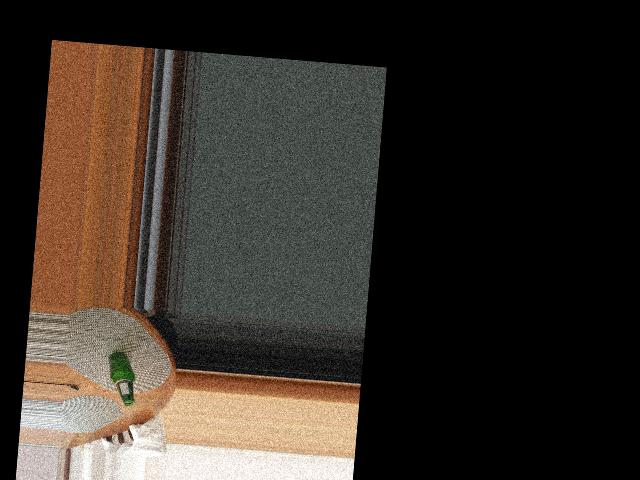beer: (105, 351, 136, 405)
